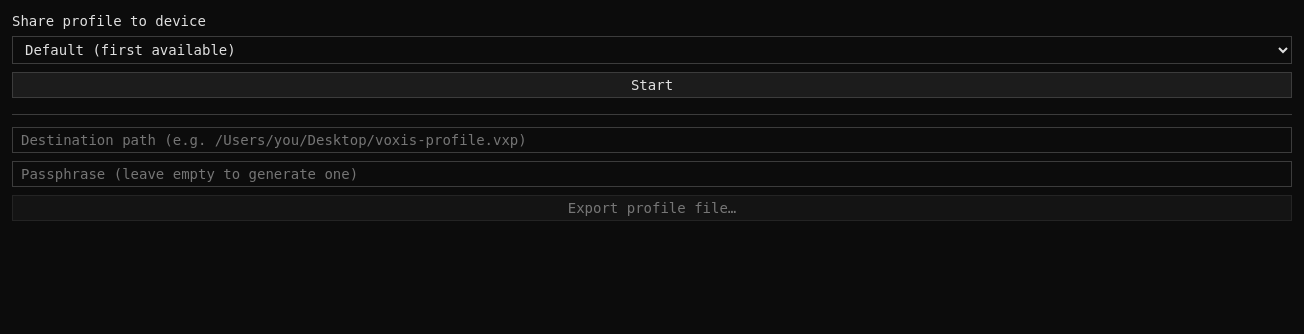
Test case: ProfileShare › exporting with no passphrase reveals the generated one once
Type "/tmp/voxis-profile.vxp" into the field with test id "profile-share-export-path". click: x=652, y=140
box: [12, 127, 1292, 153]
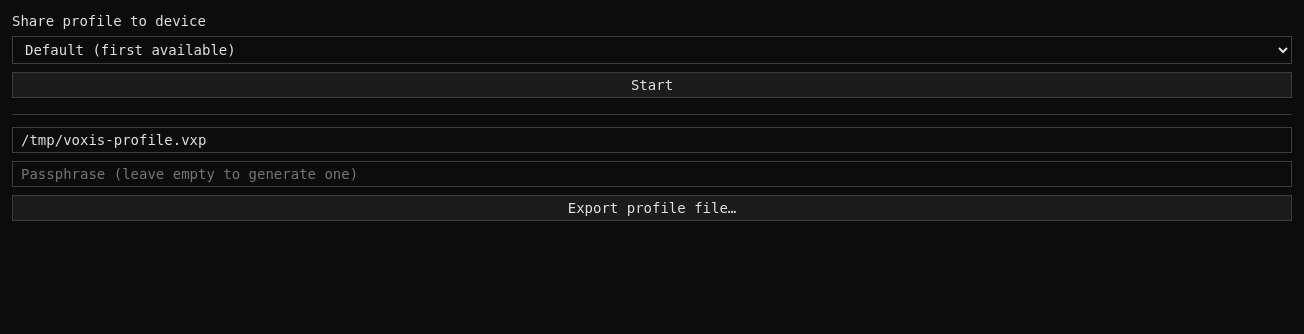
Click the button with test id "profile-share-export-button". click: x=652, y=208
box: [12, 195, 1292, 221]
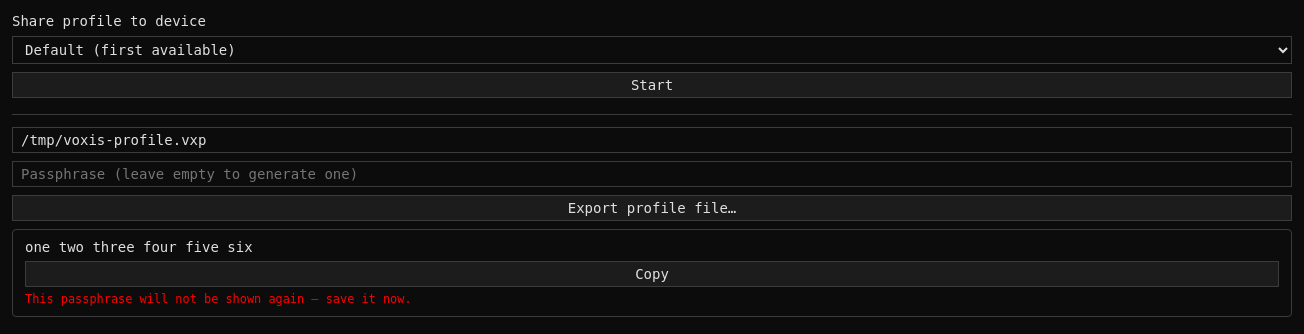
expect the text with test id "profile-share-export-passphrase-value" reads "one two three four five six": met, box [25, 239, 253, 255]
expect the button with test id "profile-share-copy-passphrase" is shown: met, box [25, 261, 1279, 287]
